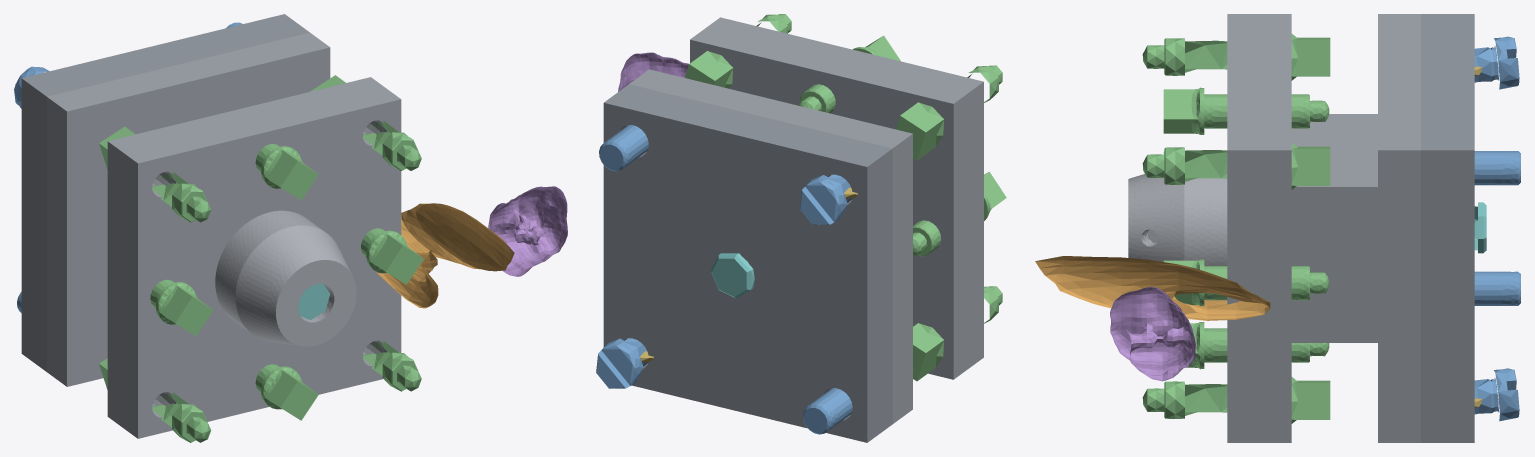
Rendered from toolpost_reconstructed.glb.
The picture shows the model from 3 angles, left to right: view 1: azimuth 30°, elevation 25°; view 2: azimuth 150°, elevation 25°; view 3: azimuth 270°, elevation 25°; orthographic projection. The views are drawn at different scales.
Visible parts, largest first — view 1: existing_host_tool_holder_6, existing_host_clamping_nut_1, existing_host_base_plate_13, recon_shaft_side_15, recon_knob_16, existing_machine_screw_2, existing_machine_screw_3, existing_machine_screw_4, existing_machine_screw_5, recon_machine_screw_3, recon_machine_screw_2, recon_machine_screw_1 (+2 smaller); view 2: existing_host_base_plate_13, existing_host_tool_holder_6, recon_machine_screw_3, recon_bs4183_screw_10, recon_bs4183_screw_11, recon_machine_screw_1, recon_machine_screw_2, existing_bs4183_screw_9, existing_bs4183_screw_10, recon_shaft_central_14, existing_machine_screw_4, recon_knob_16 (+1 smaller); view 3: existing_host_tool_holder_6, existing_host_base_plate_13, existing_host_clamping_nut_1, recon_shaft_side_15, recon_knob_16, recon_machine_screw_3, recon_machine_screw_2, recon_machine_screw_0, existing_machine_screw_5, existing_machine_screw_3, existing_machine_screw_2, recon_bs4183_screw_10 (+4 smaller).
Boxes of the visible parts, x1=… form: existing_host_tool_holder_6: x1=47, y1=32, x2=401, y2=438; existing_host_clamping_nut_1: x1=215, y1=210, x2=356, y2=346; existing_host_base_plate_13: x1=21, y1=14, x2=309, y2=371; recon_shaft_side_15: x1=376, y1=203, x2=514, y2=308; recon_knob_16: x1=488, y1=186, x2=567, y2=276; existing_machine_screw_2: x1=255, y1=364, x2=318, y2=420; existing_machine_screw_3: x1=361, y1=228, x2=423, y2=284; existing_machine_screw_4: x1=150, y1=279, x2=213, y2=335; existing_machine_screw_5: x1=255, y1=144, x2=318, y2=200; recon_machine_screw_3: x1=99, y1=126, x2=210, y2=222; recon_machine_screw_2: x1=310, y1=75, x2=421, y2=170; recon_machine_screw_1: x1=99, y1=358, x2=211, y2=442; existing_host_base_plate_13: x1=603, y1=84, x2=892, y2=442; existing_host_tool_holder_6: x1=629, y1=17, x2=983, y2=423; recon_machine_screw_3: x1=896, y1=65, x2=1002, y2=160; recon_bs4183_screw_10: x1=596, y1=338, x2=648, y2=388; recon_bs4183_screw_11: x1=800, y1=174, x2=851, y2=224; recon_machine_screw_1: x1=913, y1=286, x2=1002, y2=381; recon_machine_screw_2: x1=685, y1=14, x2=791, y2=88; existing_bs4183_screw_9: x1=599, y1=125, x2=648, y2=171; existing_bs4183_screw_10: x1=803, y1=388, x2=852, y2=434; recon_shaft_central_14: x1=710, y1=253, x2=754, y2=298; existing_machine_screw_4: x1=913, y1=171, x2=1006, y2=256; recon_knob_16: x1=618, y1=52, x2=689, y2=91; existing_host_tool_holder_6: x1=1227, y1=14, x2=1420, y2=442; existing_host_base_plate_13: x1=1421, y1=14, x2=1474, y2=442; existing_host_clamping_nut_1: x1=1128, y1=174, x2=1227, y2=265; recon_shaft_side_15: x1=1035, y1=256, x2=1270, y2=320; recon_knob_16: x1=1110, y1=286, x2=1195, y2=381; recon_machine_screw_3: x1=1142, y1=33, x2=1330, y2=80; recon_machine_screw_2: x1=1142, y1=143, x2=1330, y2=189; recon_machine_screw_0: x1=1142, y1=377, x2=1330, y2=423; existing_machine_screw_5: x1=1163, y1=87, x2=1329, y2=134; existing_machine_screw_3: x1=1163, y1=259, x2=1329, y2=305; existing_machine_screw_2: x1=1186, y1=322, x2=1329, y2=369; recon_bs4183_screw_10: x1=1474, y1=368, x2=1519, y2=421.
Bounding box in the file's own units: 224 × 150 × 226.
